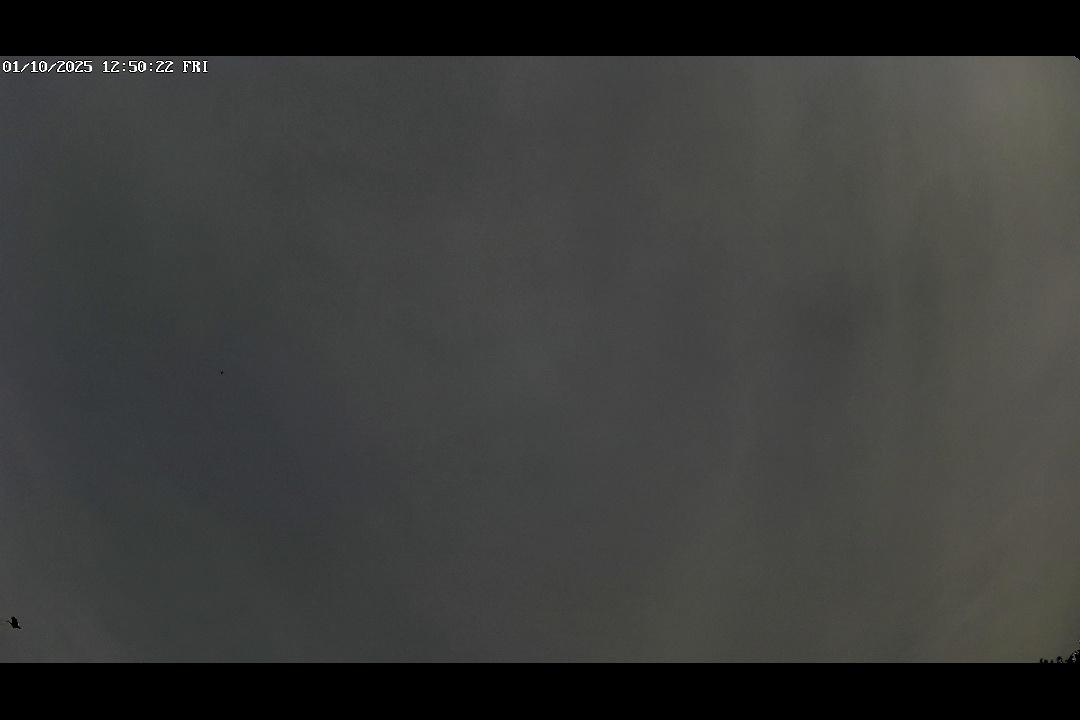WildLife: (0, 606, 33, 637), (219, 368, 225, 377)
